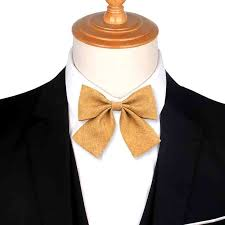bow: (72, 83, 164, 158)
